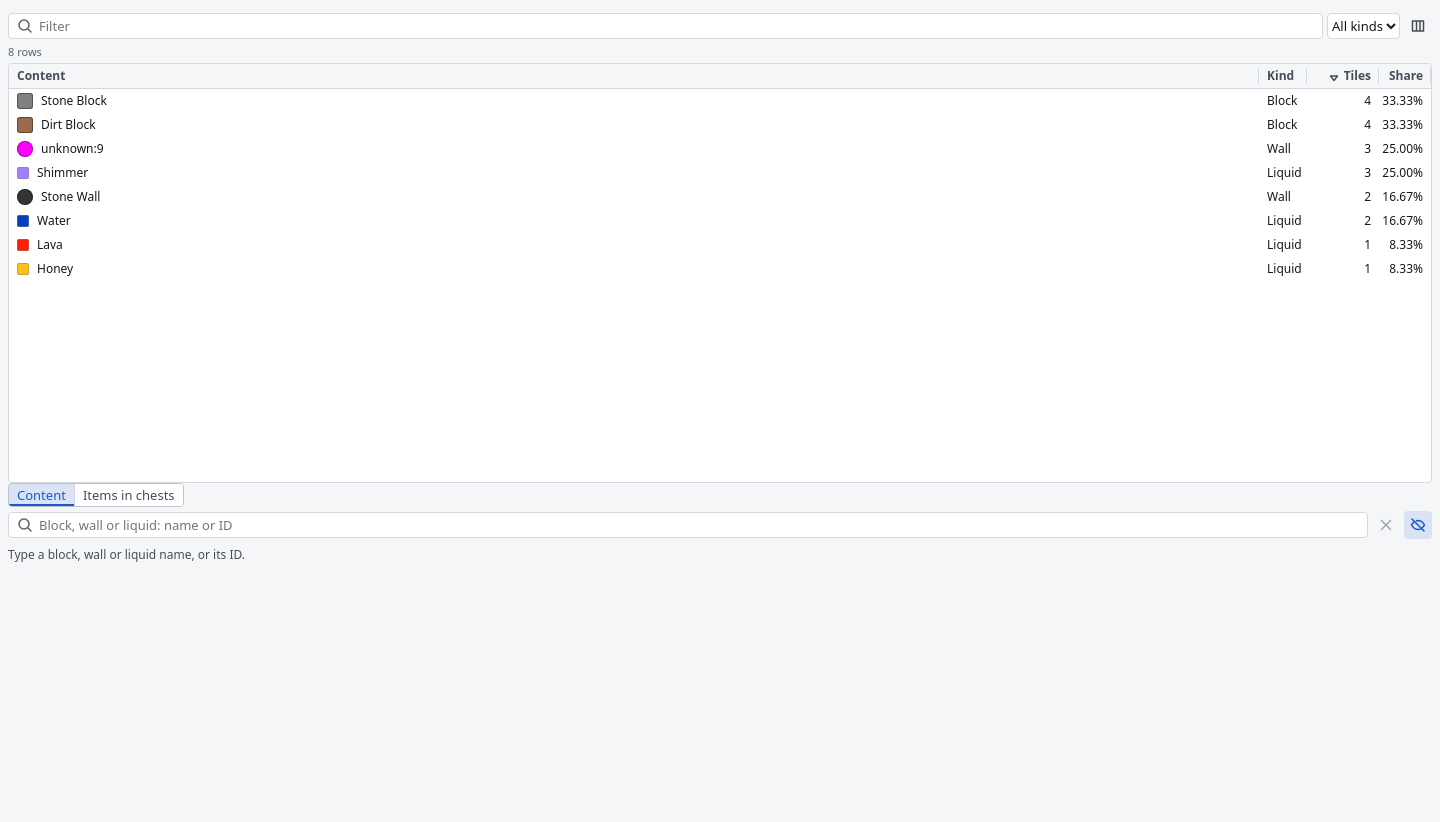
Test case: Enter on a Content row finds that entry on the map and goes to its first tile
Click the row "Dirt Block Block 4 33.33%" at (68, 124), box top-left (9, 113), bottom-right (1431, 137)
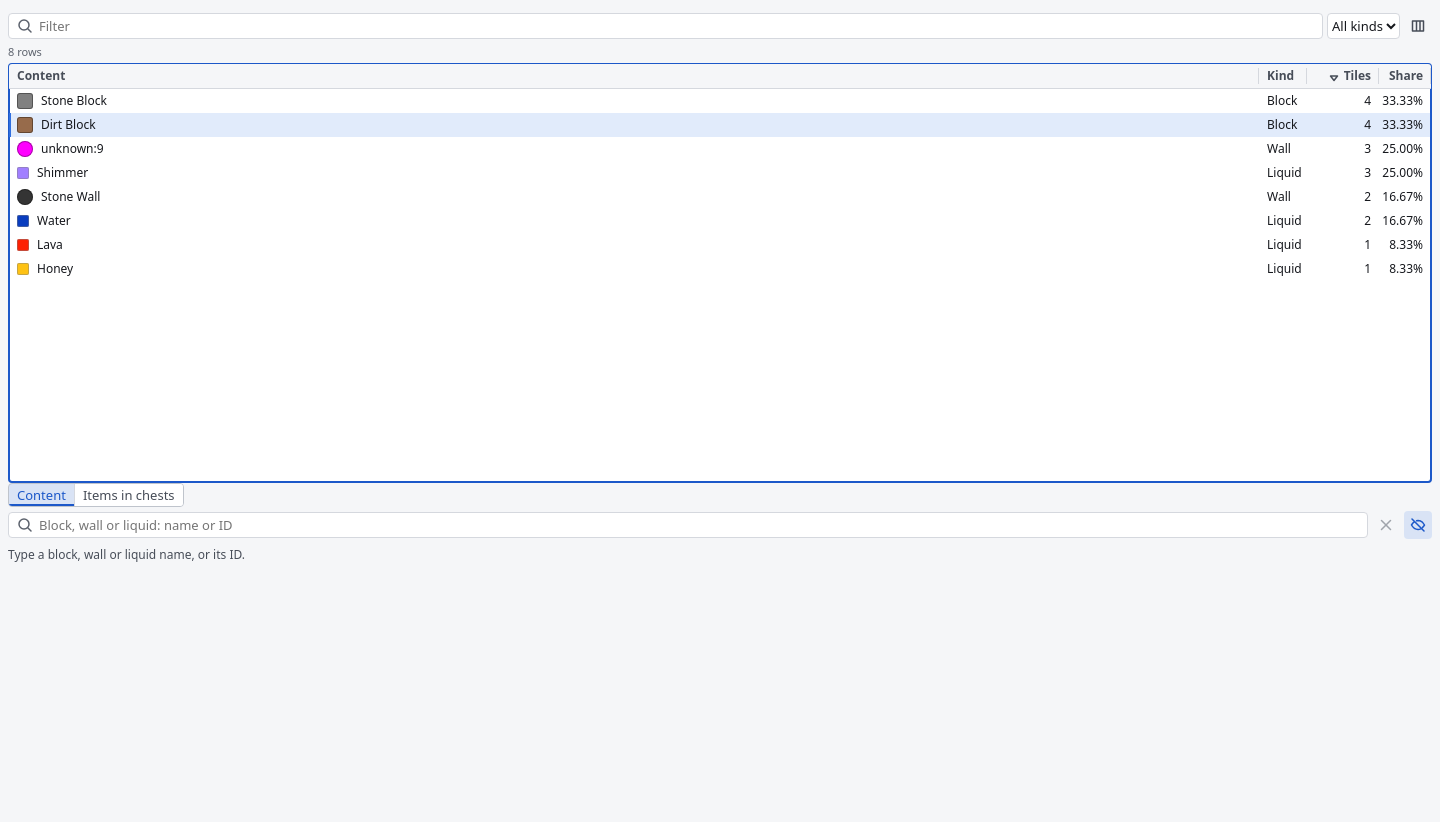
Press Enter
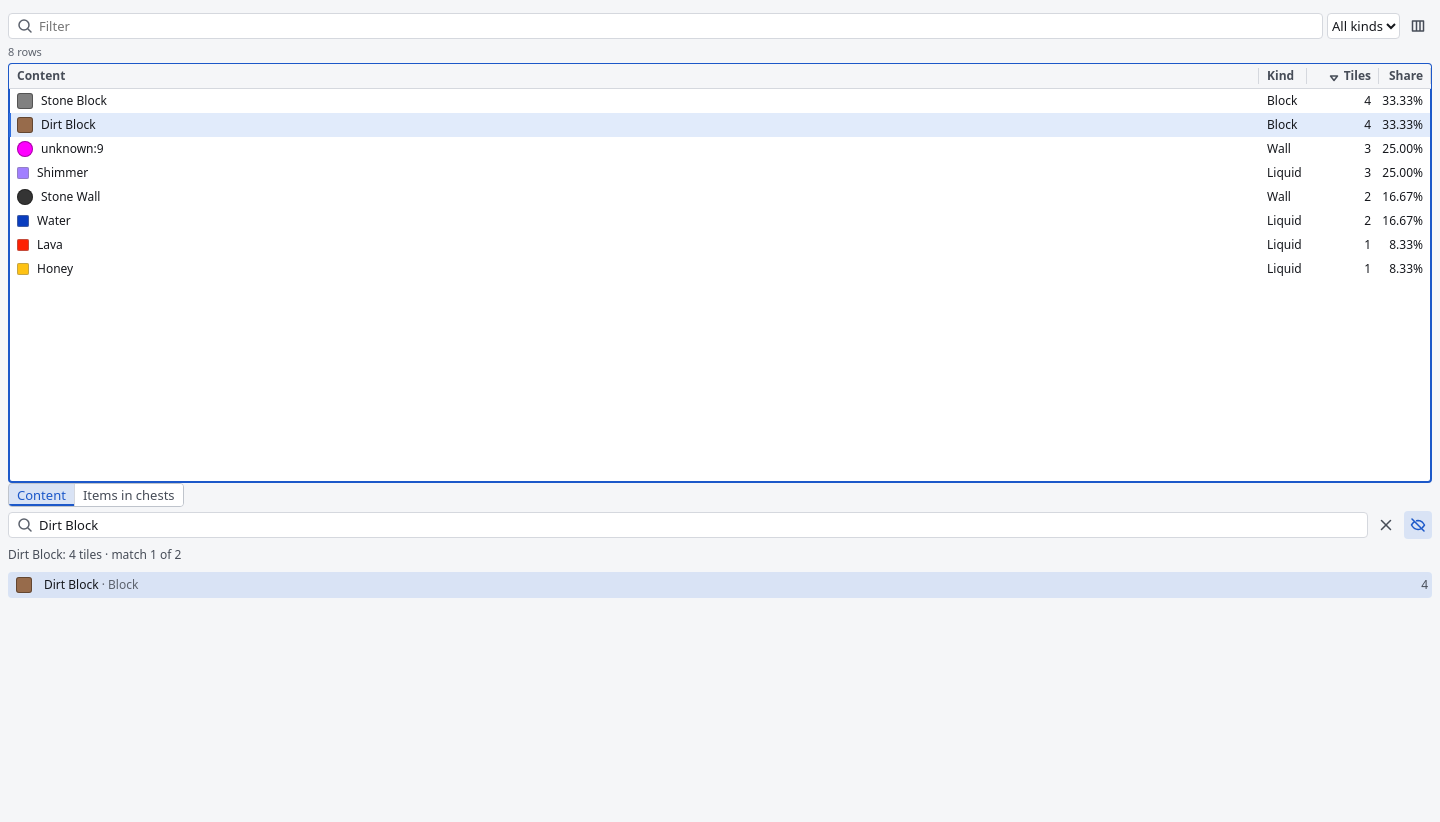
expect the search field named "Search Content" holds "Dirt Block": met, box top-left (37, 515), bottom-right (1359, 536)
